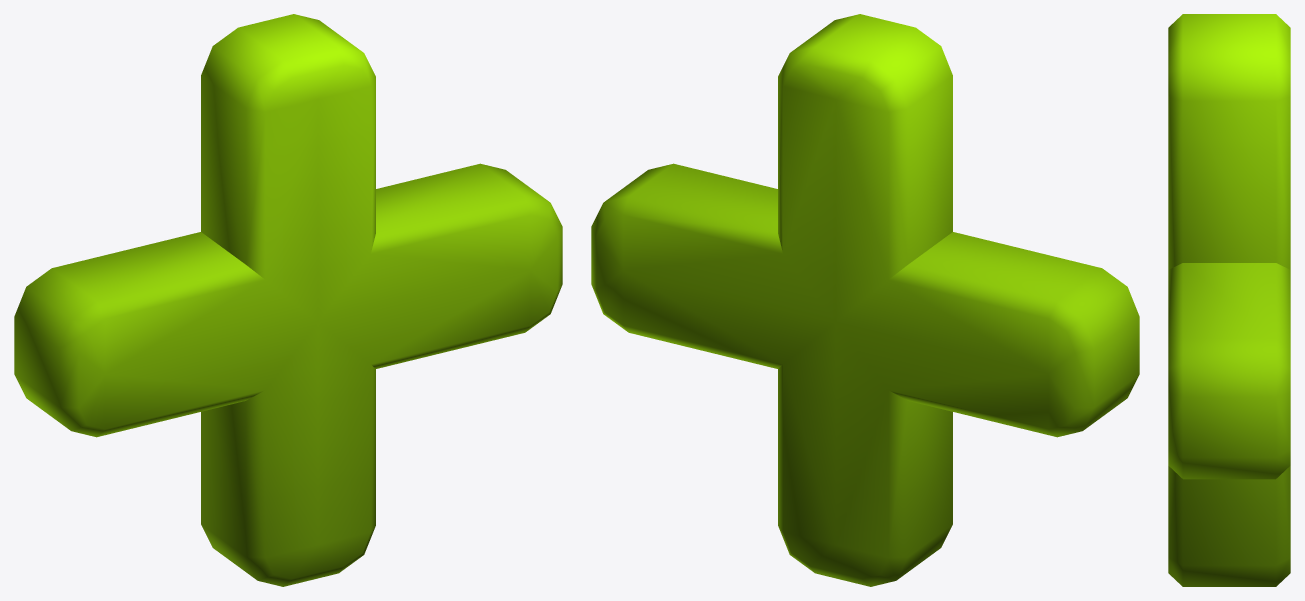
File: Collectable_Plus_01.fbx
3 renders of one model, left to right at view 1: azimuth 30°, elevation 25°; view 2: azimuth 150°, elevation 25°; view 3: azimuth 270°, elevation 25°, orthographic. The views are drawn at different scales.
Visible parts, largest first — view 1: Collectable_Plus_01; view 2: Collectable_Plus_01; view 3: Collectable_Plus_01.
Boxes of the visible parts, box(x1,y1,x2,y2) form: Collectable_Plus_01: box(14, 14, 562, 586); Collectable_Plus_01: box(591, 14, 1139, 586); Collectable_Plus_01: box(1168, 14, 1290, 586).
Size of the model in its own units: 71.09 by 71.09 by 14.49.
